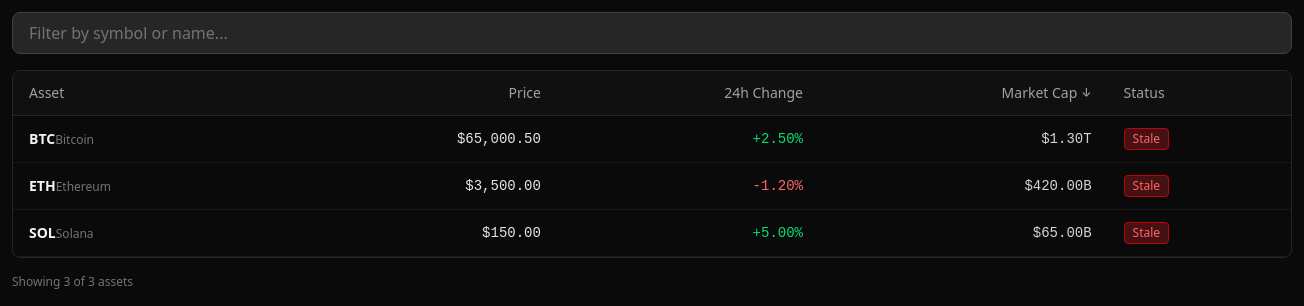
Test: MarketTable › filters by symbol
The width and height of the screenshot is (1304, 306).
Type "btc" into the field with placeholder "Filter by symbol or name...". click: (652,33)
box: 12,12 -> 1292,54
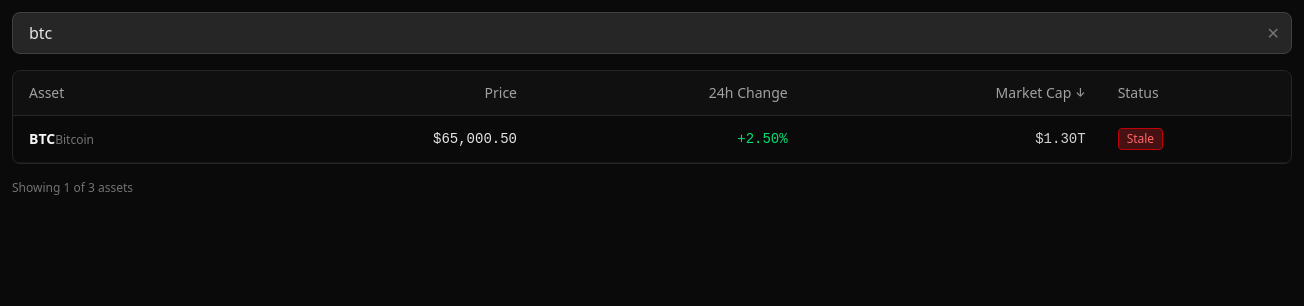
Expected: the text "BTC" is shown, 29,129 -> 55,148
Expected: the link "ETH" is gone
Expected: the link "SOL" is gone
